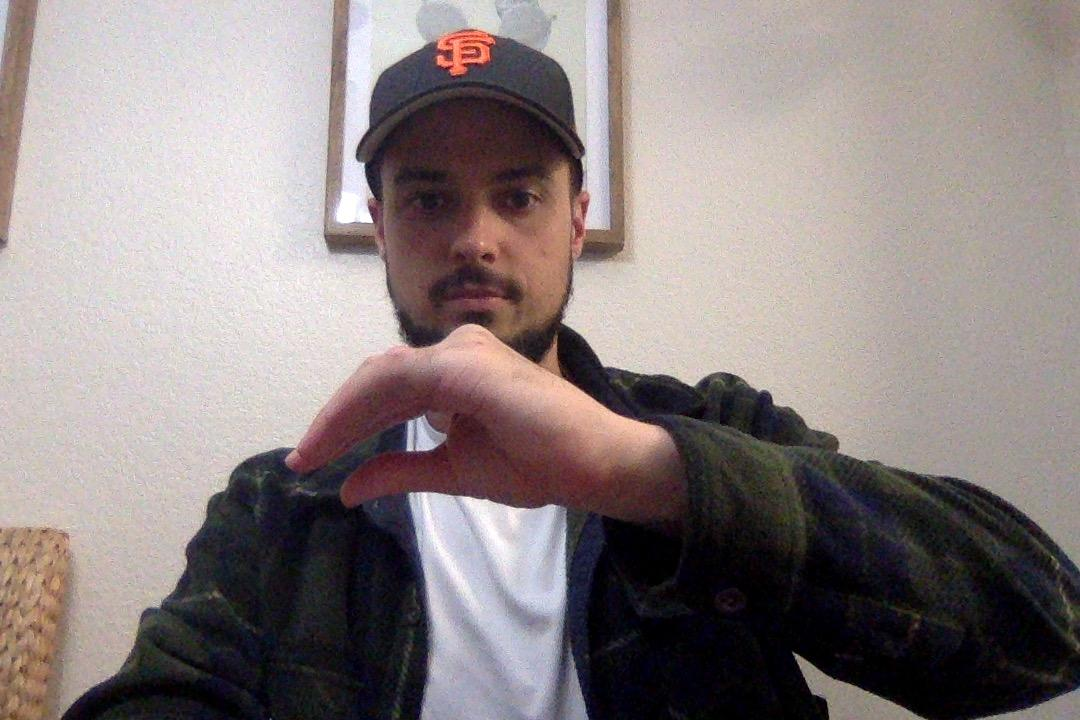Pinched-Fingers: (275, 310, 679, 559)
